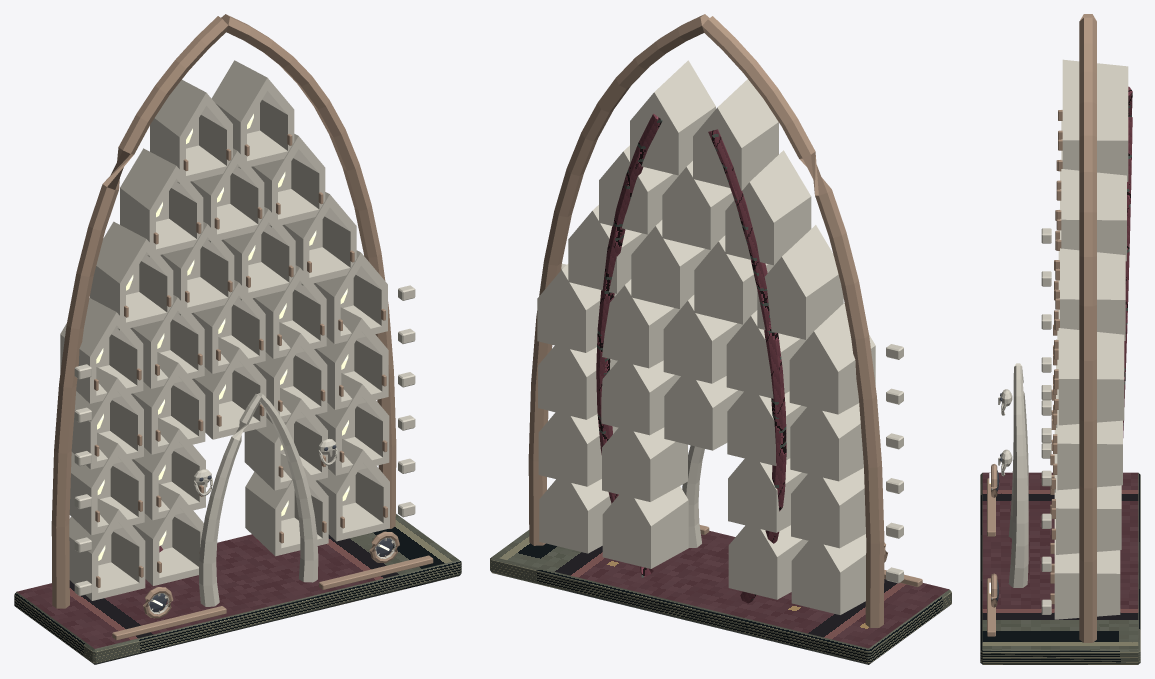
The model's file is reliquary_cell_vault.glb.
3 renders of one model, left to right at view 1: azimuth 30°, elevation 25°; view 2: azimuth 150°, elevation 25°; view 3: azimuth 270°, elevation 25°, orthographic. The views are drawn at different scales.
Parts seen in each view (by area): view 1: reliquary_cell_vault_warm, reliquary_cell_vault_worn, reliquary_cell_vault_petrol, reliquary_cell_vault_sick; view 2: reliquary_cell_vault_warm, reliquary_cell_vault_petrol, reliquary_cell_vault_worn, reliquary_cell_vault_bruised; view 3: reliquary_cell_vault_warm, reliquary_cell_vault_petrol, reliquary_cell_vault_worn, reliquary_cell_vault_bruised.
Boxes of the visible parts, bbox=[...] form: reliquary_cell_vault_warm: bbox=[60, 60, 415, 614]; reliquary_cell_vault_worn: bbox=[51, 14, 433, 640]; reliquary_cell_vault_petrol: bbox=[14, 514, 461, 664]; reliquary_cell_vault_sick: bbox=[96, 114, 389, 605]; reliquary_cell_vault_warm: bbox=[537, 60, 903, 614]; reliquary_cell_vault_petrol: bbox=[490, 530, 951, 664]; reliquary_cell_vault_worn: bbox=[528, 14, 922, 627]; reliquary_cell_vault_bruised: bbox=[596, 113, 786, 603]; reliquary_cell_vault_warm: bbox=[991, 59, 1128, 619]; reliquary_cell_vault_petrol: bbox=[980, 472, 1140, 664]; reliquary_cell_vault_worn: bbox=[987, 14, 1096, 642]; reliquary_cell_vault_bruised: bbox=[1123, 86, 1132, 437].
Size of the model in its own units: 5.8 by 8.49 by 2.2.
Materials: 6 (2 with a texture image).
